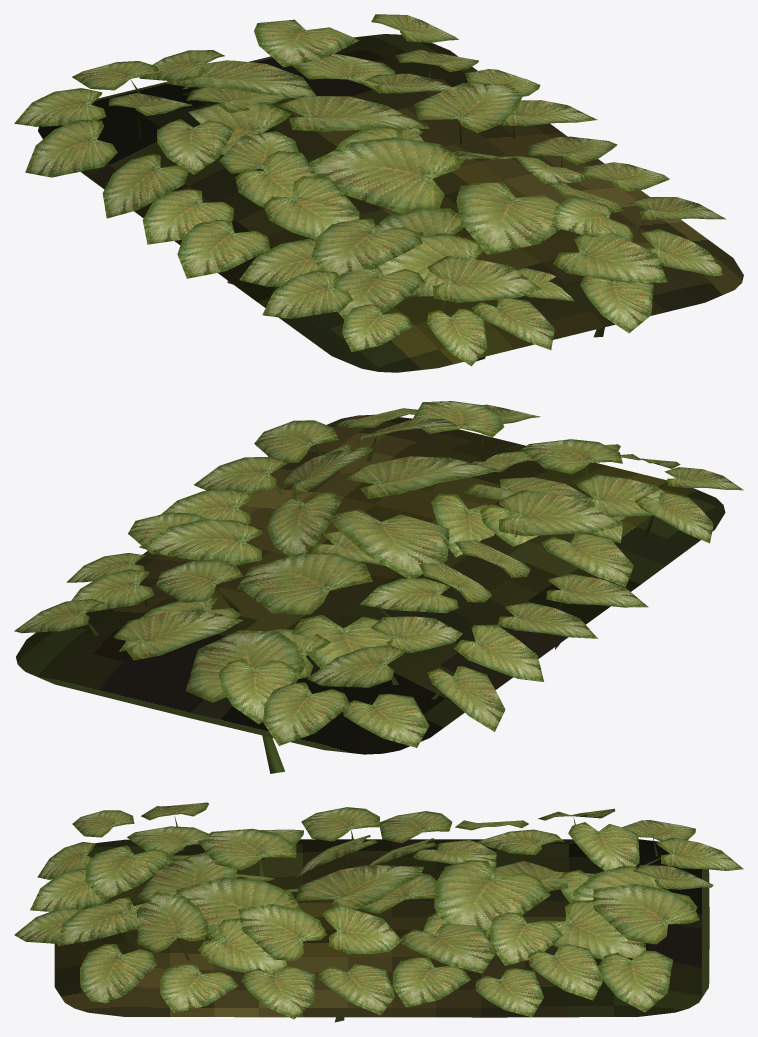
The model's file is Plants_2x3_A_LOW.FBX.
3 views of the same model, one above another, from view 1: azimuth 30°, elevation 25°; view 2: azimuth 150°, elevation 25°; view 3: azimuth 270°, elevation 25° (orthographic). The views are drawn at different scales.
Parts seen in each view (by area): view 1: Plants_2x3_A_LOW; view 2: Plants_2x3_A_LOW; view 3: Plants_2x3_A_LOW.
Part boxes in pixels (<box>): Plants_2x3_A_LOW: <box>14,14,743,372</box>; Plants_2x3_A_LOW: <box>14,401,743,773</box>; Plants_2x3_A_LOW: <box>14,802,743,1022</box>.
Size of the model in its own units: 2.1 by 0.4377 by 3.12.
